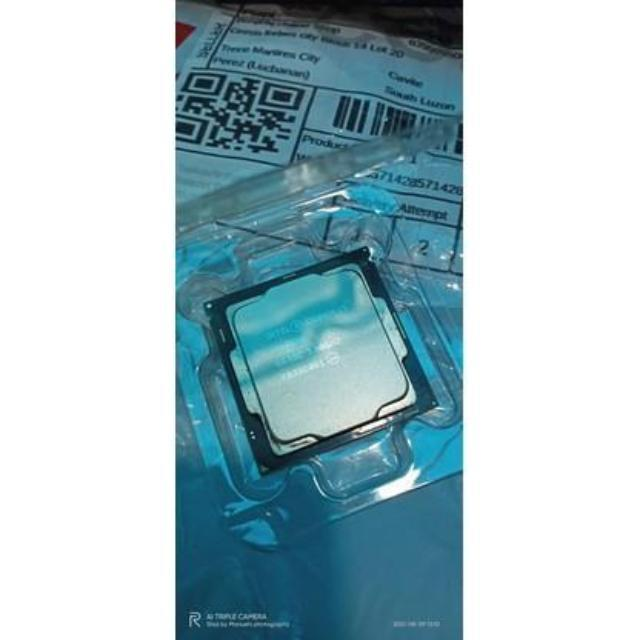CPU: (220, 245, 437, 460)
